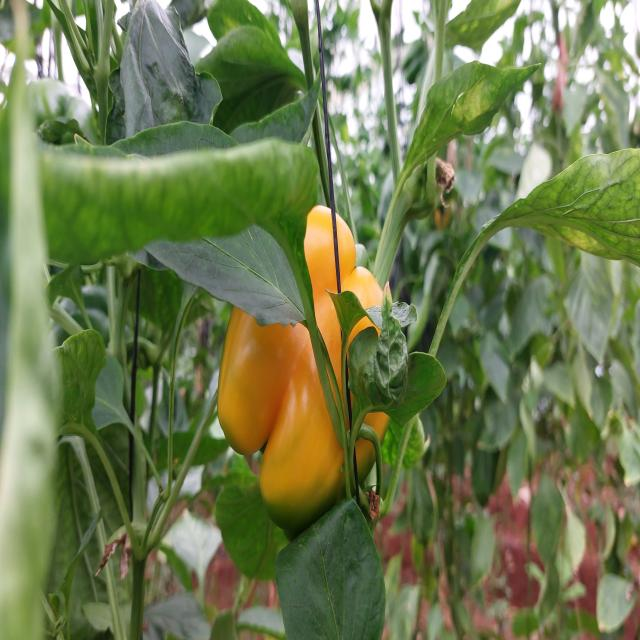Yellow-Ready-to-Harvest: (217, 203, 398, 503)
